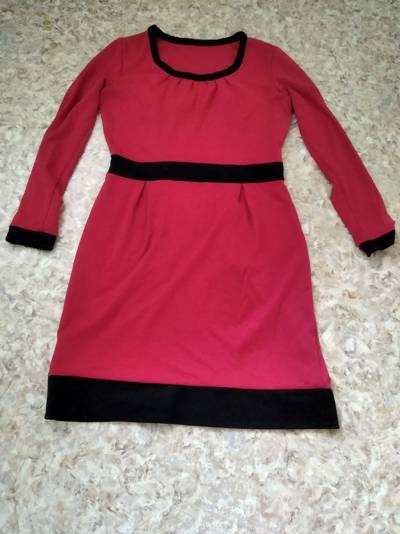Dress: (2, 19, 391, 451)
